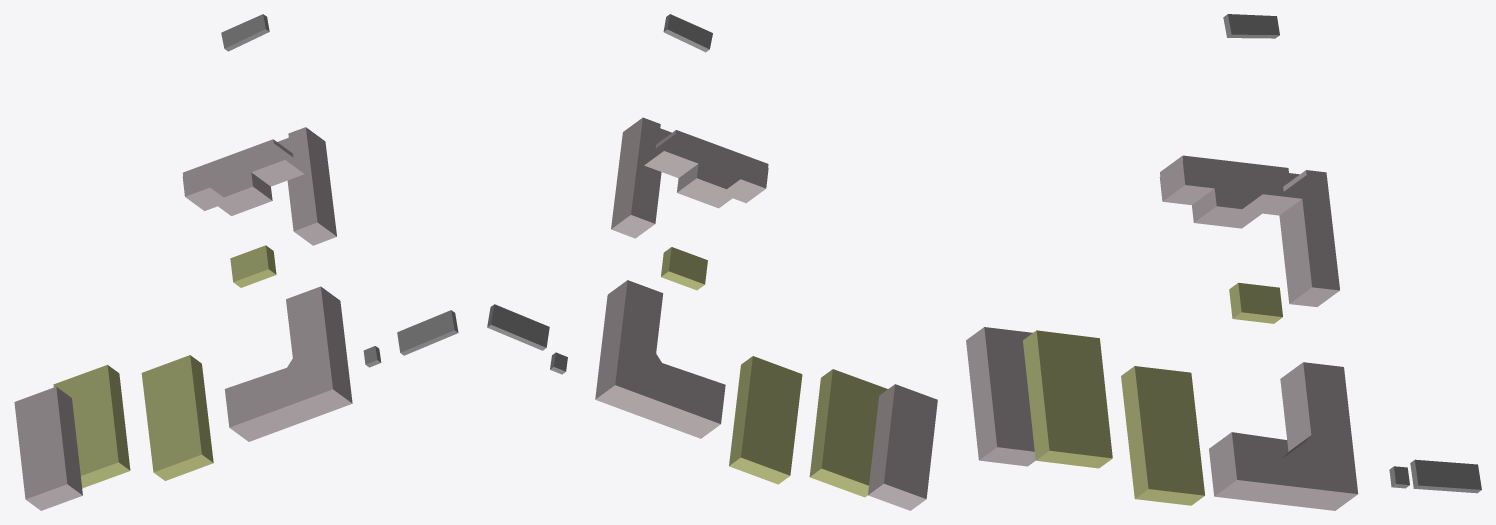
The picture shows the model from 3 angles, left to right: view 1: azimuth 30°, elevation 25°; view 2: azimuth 150°, elevation 25°; view 3: azimuth 330°, elevation 25°; orthographic projection. The views are drawn at different scales.
Parts seen in each view (by area): view 1: 0_0_3_2_1_0; view 2: 0_0_3_2_1_0; view 3: 0_0_3_2_1_0.
Boxes of the visible parts, box(x1,y1,x2,y2) form: 0_0_3_2_1_0: box(14, 14, 458, 510); 0_0_3_2_1_0: box(487, 14, 937, 510); 0_0_3_2_1_0: box(966, 14, 1481, 510).
Bounding box in the file's own units: 191 × 182 × 16.6.
